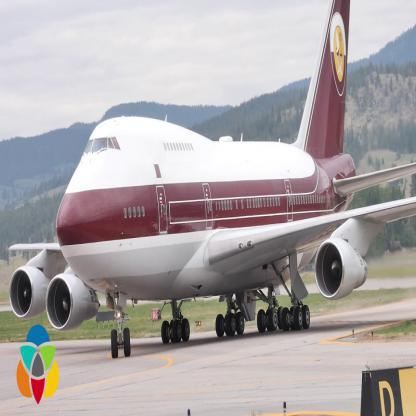CIV_Plane: (6, 4, 414, 358)
